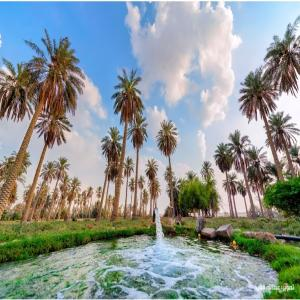palm tree: (0, 27, 85, 220), (109, 67, 144, 221), (238, 66, 284, 182), (262, 14, 300, 97), (226, 128, 256, 218), (96, 126, 122, 221), (266, 110, 300, 179), (126, 113, 148, 219), (155, 118, 178, 218), (245, 145, 271, 217), (213, 142, 235, 218), (46, 156, 70, 220), (200, 160, 214, 216), (144, 157, 157, 216), (123, 155, 134, 218), (66, 175, 81, 219), (137, 174, 145, 217)
